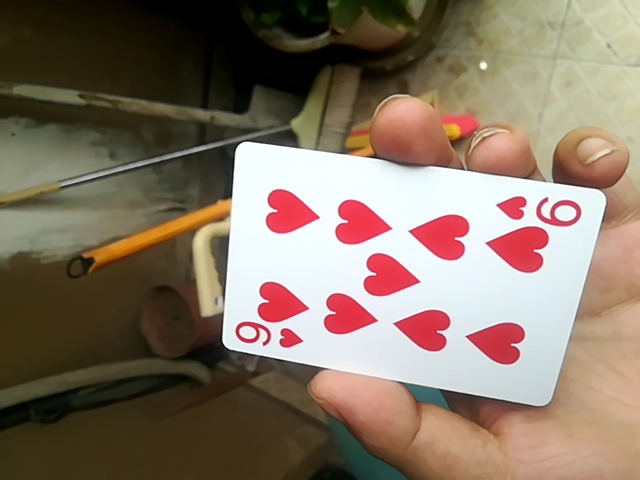hx 9: (216, 138, 604, 406)
